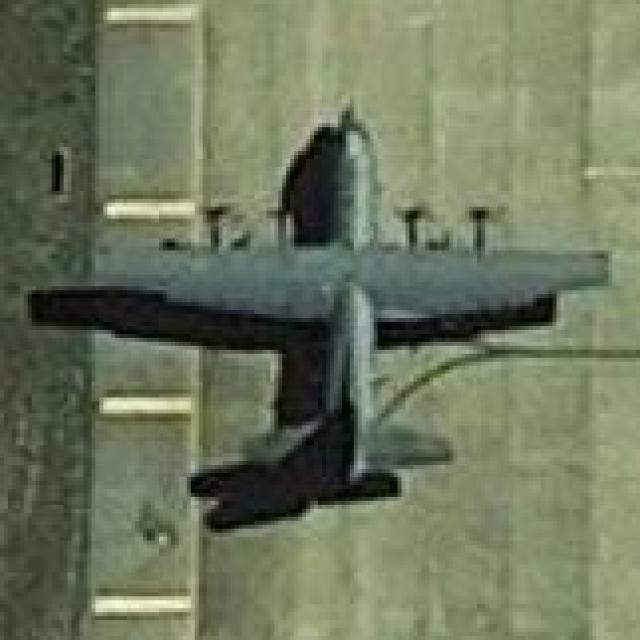C-130_TopDown: (21, 97, 616, 528)
